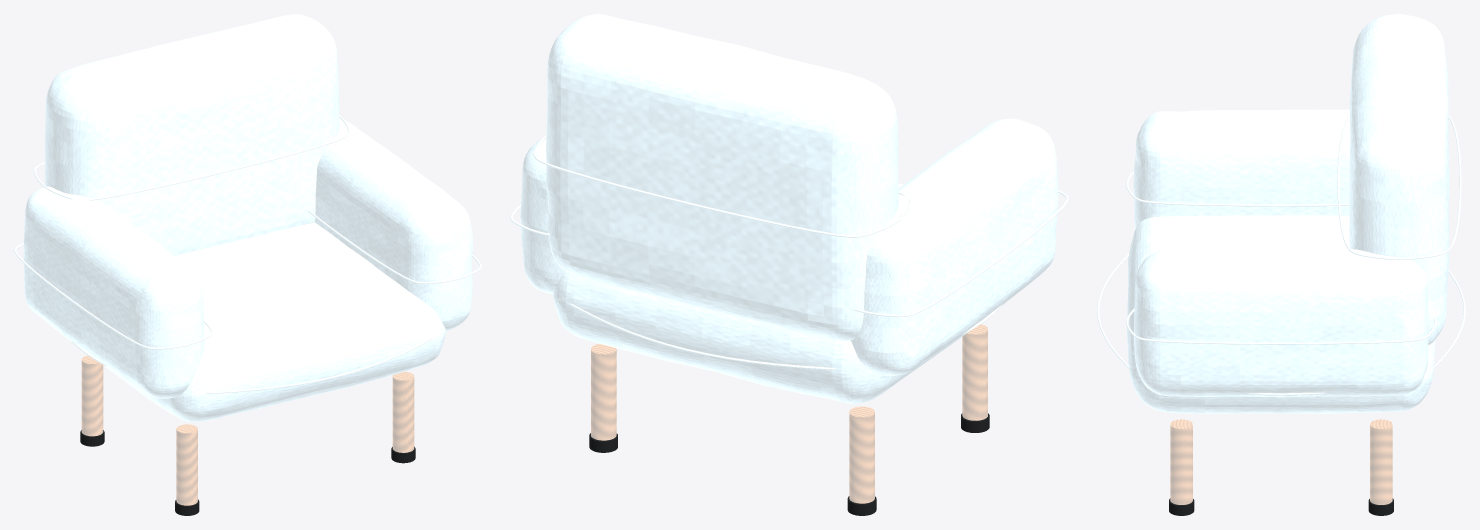
File: ref04_07.glb
3 views of the same model, side by side, from view 1: azimuth 30°, elevation 25°; view 2: azimuth 150°, elevation 25°; view 3: azimuth 270°, elevation 25° (orthographic). The views are drawn at different scales.
Visible parts, largest first — view 1: ref04_07; view 2: ref04_07; view 3: ref04_07.
Part boxes in pixels (bbox=[...]): ref04_07: bbox=[14, 14, 481, 515]; ref04_07: bbox=[510, 14, 1068, 515]; ref04_07: bbox=[1097, 14, 1465, 515].
Bounding box in the file's own units: 0.9449 × 0.9341 × 0.8127.
Materials: 3 (2 with a texture image).
